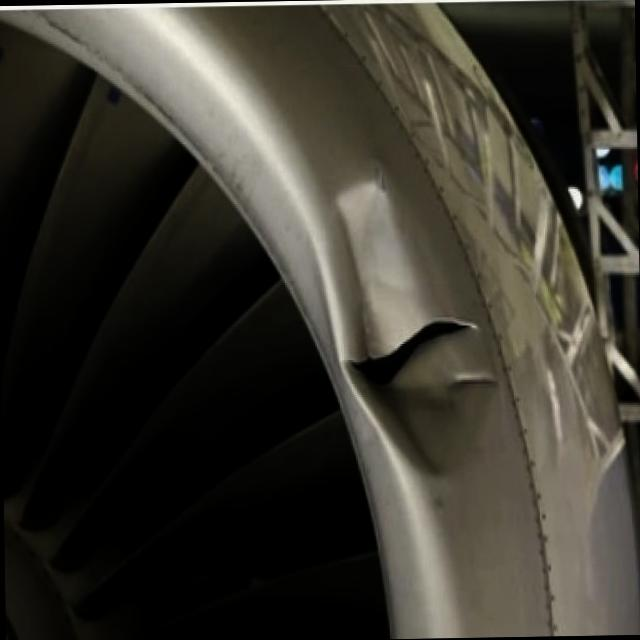crack: (341, 314, 484, 392)
dent: (315, 148, 507, 481)
